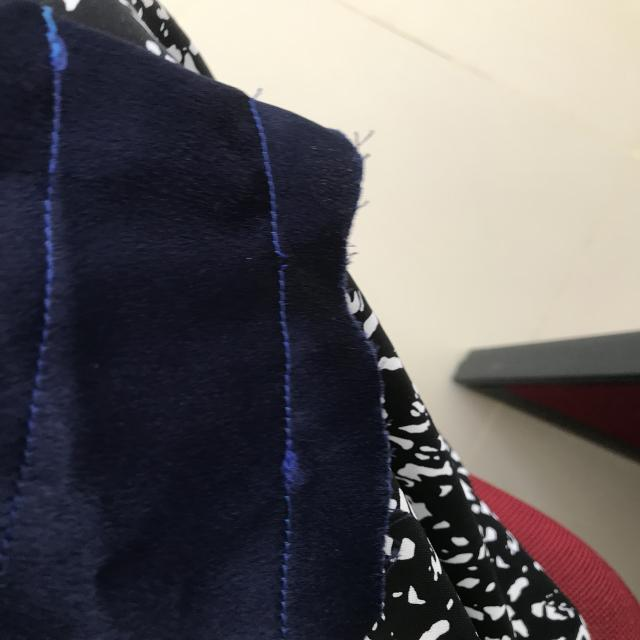broken: (269, 234, 299, 280)
